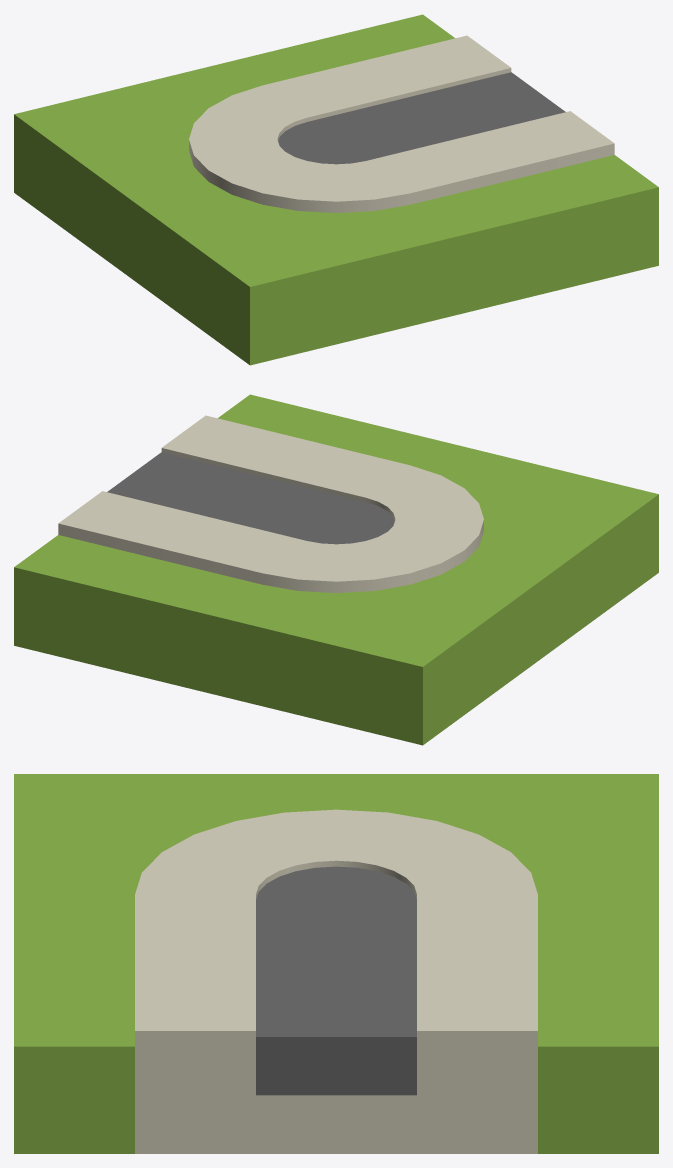
The model's file is tile075.dae.
The picture shows the model from 3 angles, top to bottom: view 1: azimuth 30°, elevation 25°; view 2: azimuth 150°, elevation 25°; view 3: azimuth 270°, elevation 25°; orthographic projection. The views are drawn at different scales.
Parts seen in each view (by area): view 1: tile075; view 2: tile075; view 3: tile075.
Boxes of the visible parts, x1,y1,x2,y2 form: tile075: [14, 14, 658, 365]; tile075: [14, 394, 658, 745]; tile075: [14, 774, 658, 1153].
Size of the model in its own units: 1 by 0.21 by 1.
